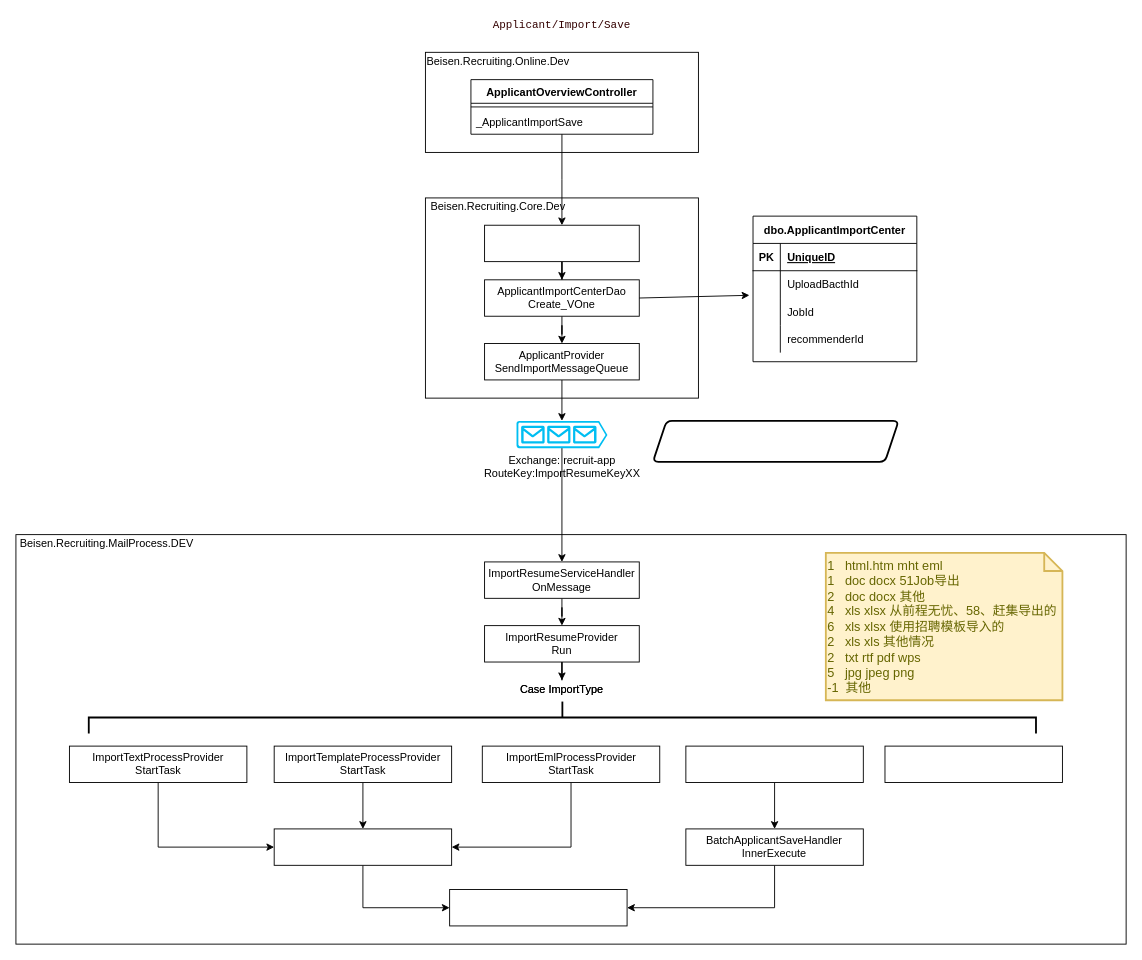
Some shapes in this 1142 by 960 pixel diagram are drawn without their labels. Here are the shapes that lost their labels. From the top down, the centre of each, then its label:
At (561,243): "ApplicantProvider AddImportApplicantQueue".
At (775,441): "tenantId, ApplicantImportCenterId".
At (774,764): "ImportStructureProcessProvider StartTask".
At (973,764): "ImportExcelOfChannelProvidercs StartTask".
At (362,846): "ApplicantSaveHandler InnerExecute（ 800行！！！ ）".
At (538,907): "MetaApplicantProvider GetApplicantIdByNotCreateNew".
